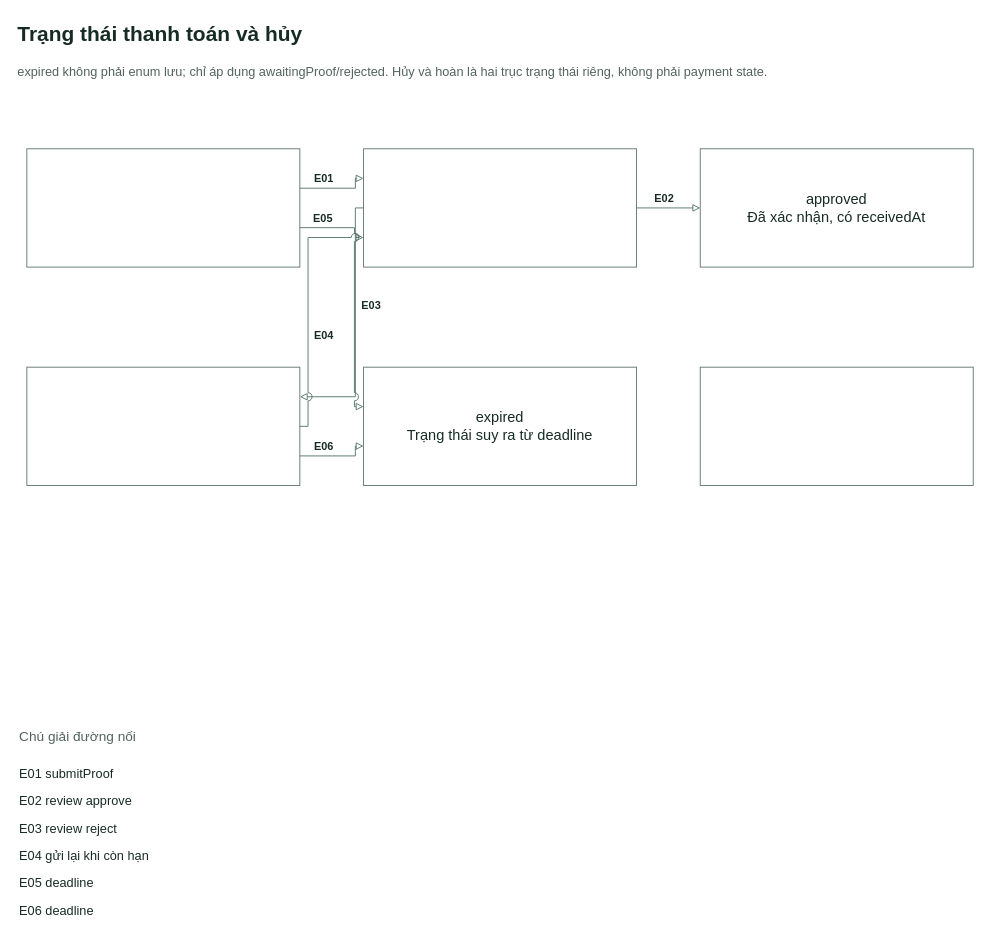
Some shapes in this 999 by 937 pixel diagram are drawn without their labels. Each missing label, with the centre of its shape:
awaitingProof Chờ ảnh chứng từ: (x=163, y=207)
cancellation / refund requested → accepted/rejected pending → recorded: (x=836, y=425)
pending Đã gửi, chờ quản lý: (x=500, y=207)
rejected Bị từ chối, có thể gửi lại: (x=163, y=425)
